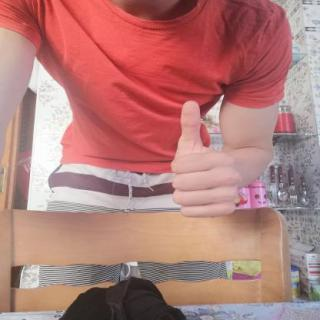ALIF: (160, 92, 252, 225)
